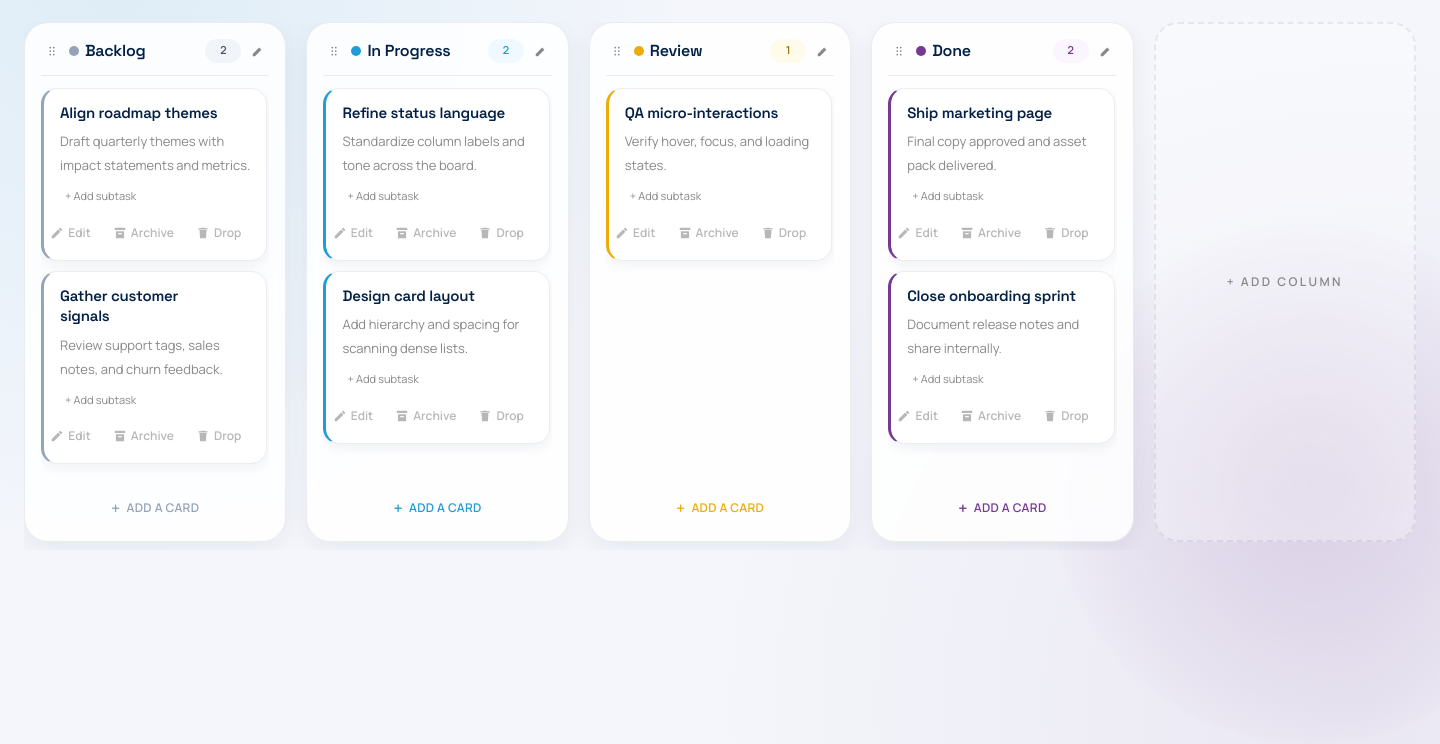
it: KanbanBoard › captures priority, labels, and assignee when adding a card
(page scrolled)
Click the 1st button "+ Add a card". click: (155, 508)
box: [41,490,269,524]
(page scrolled)
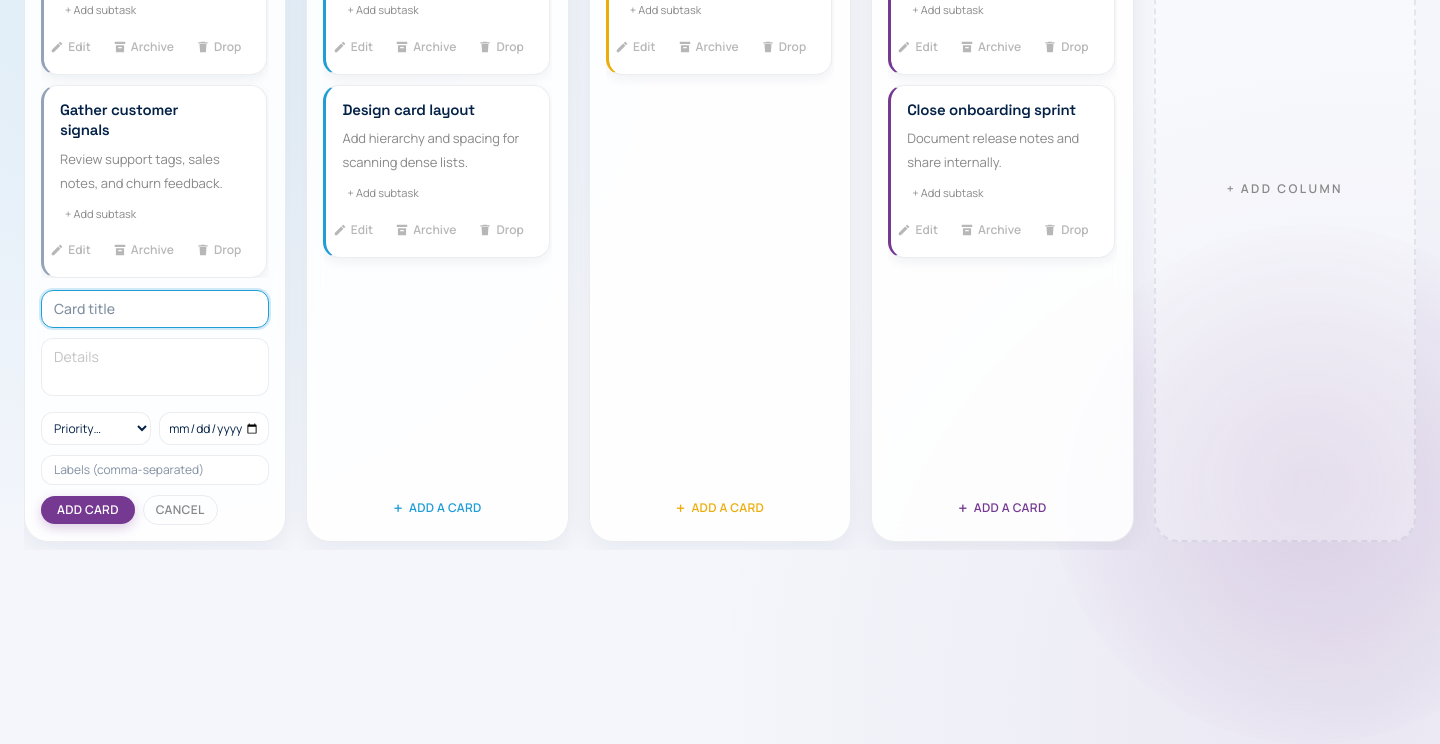
Type "Priority task" into the field with placeholder "Card title". click: (155, 309)
box: [41,290,269,328]
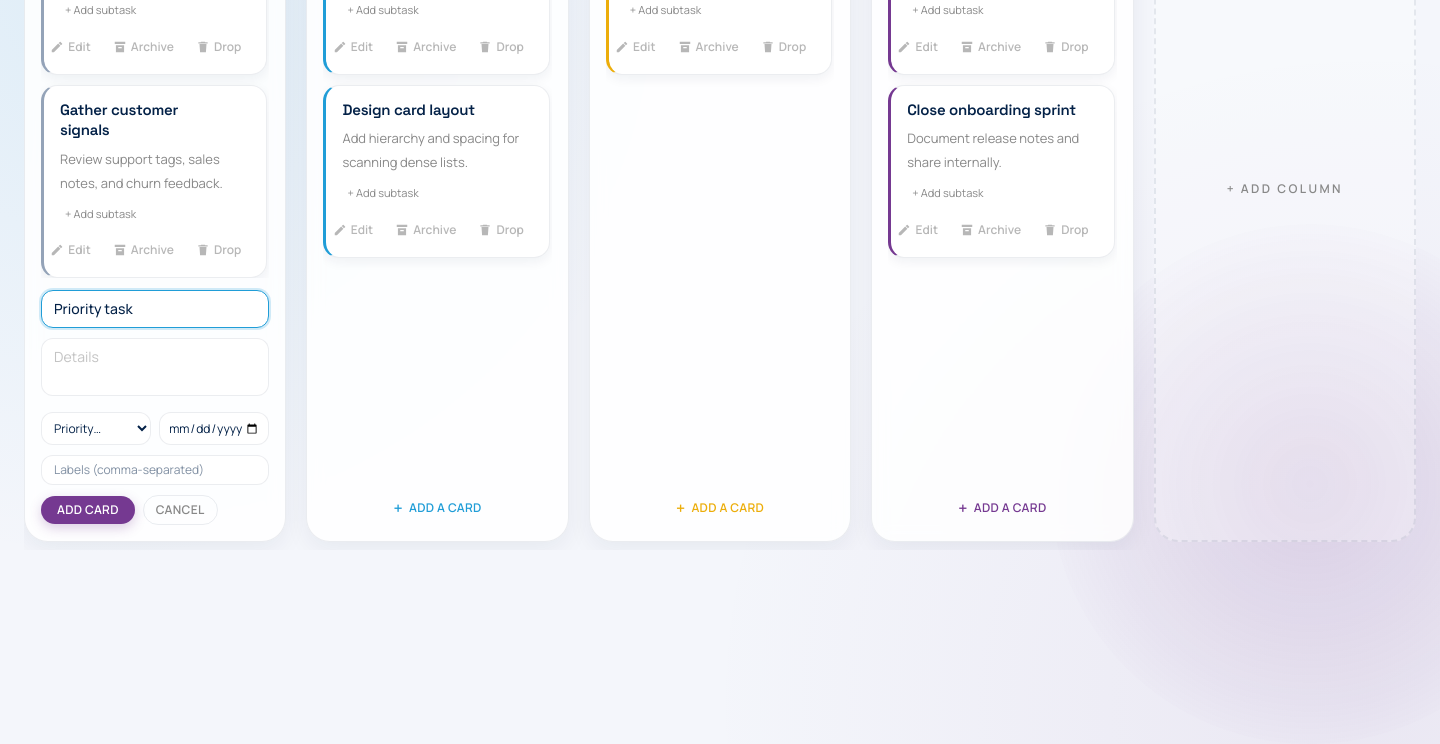
Select "High" in the dropdown named "Priority". click: (96, 429)
box: [41,412,151,445]
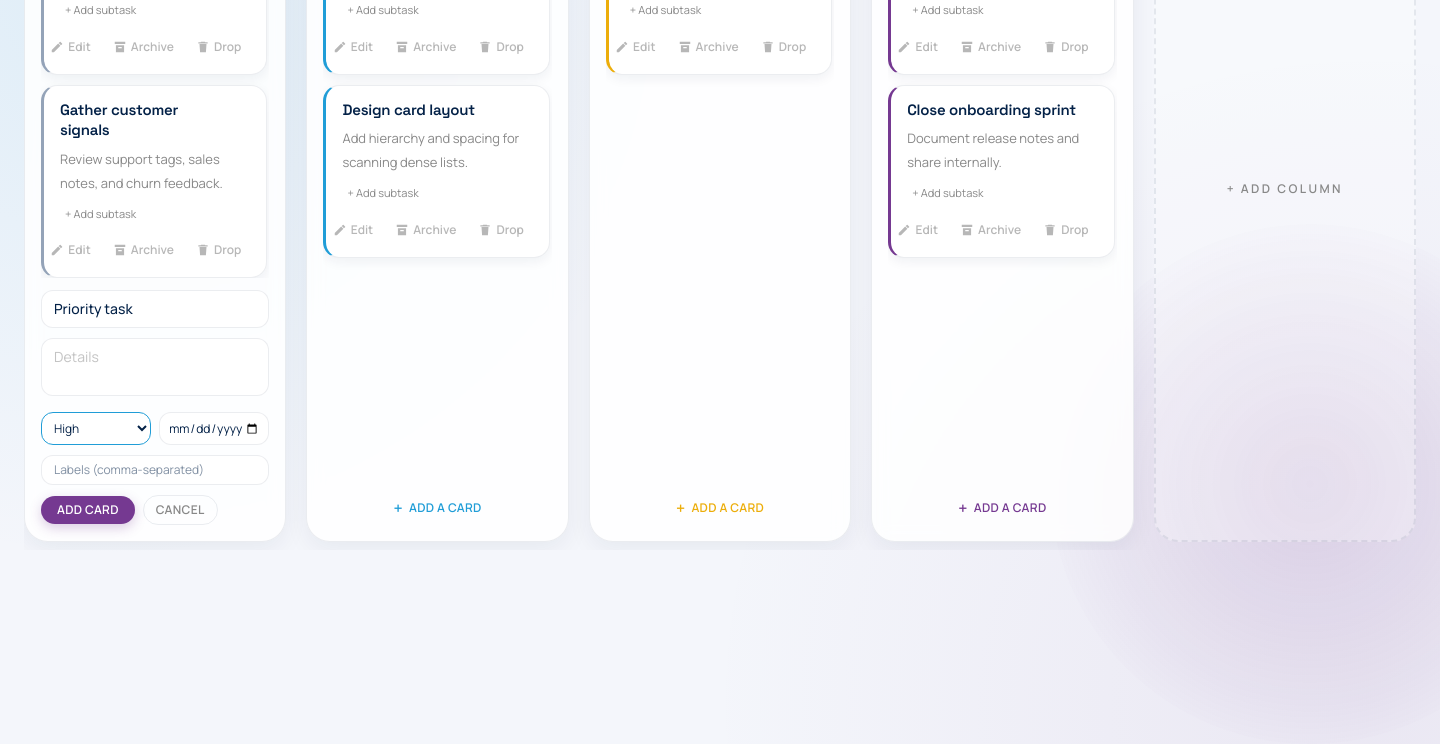
Type "design, ux" into the field with placeholder "Labels (comma-separated)". click: (155, 470)
box: [41,455,269,485]
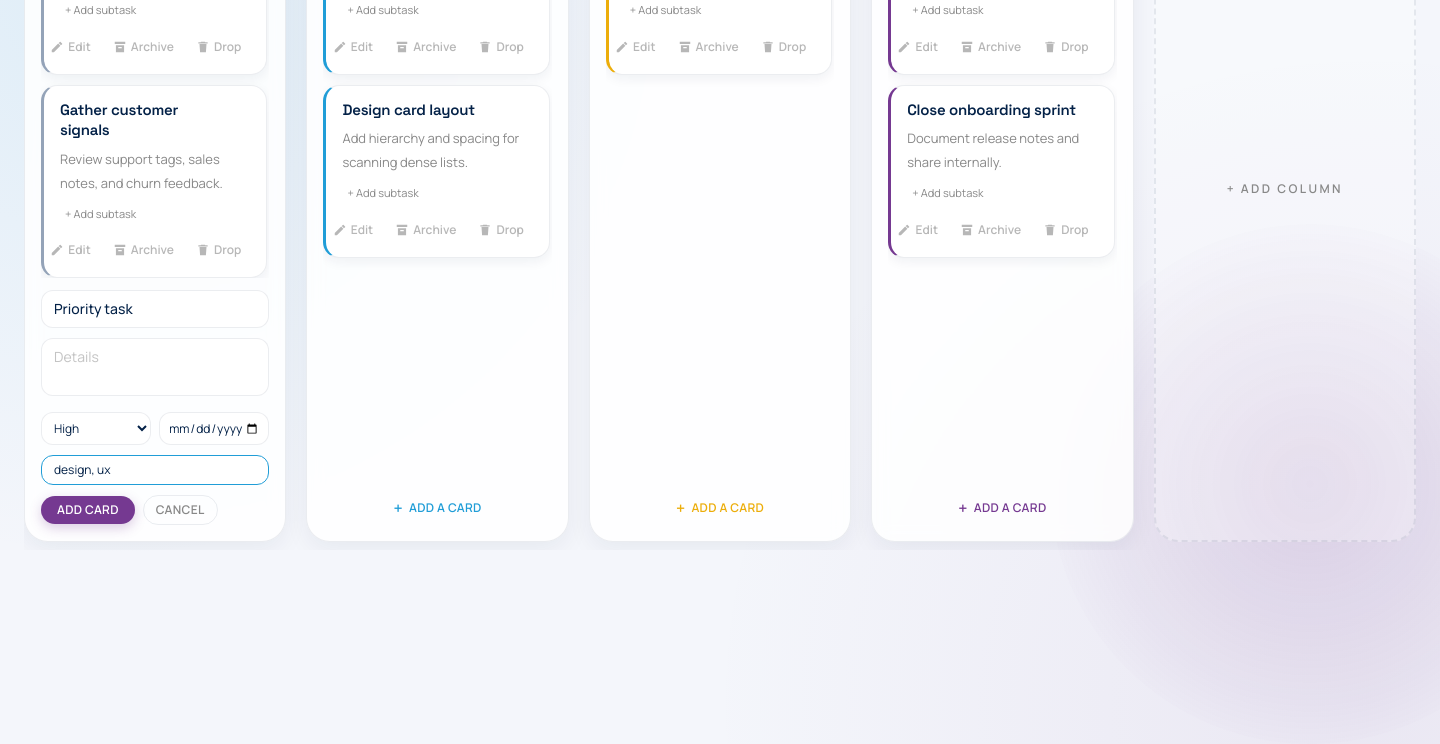
Click the button "Add card". click: (88, 510)
box: [41,496,135,524]
(page scrolled)
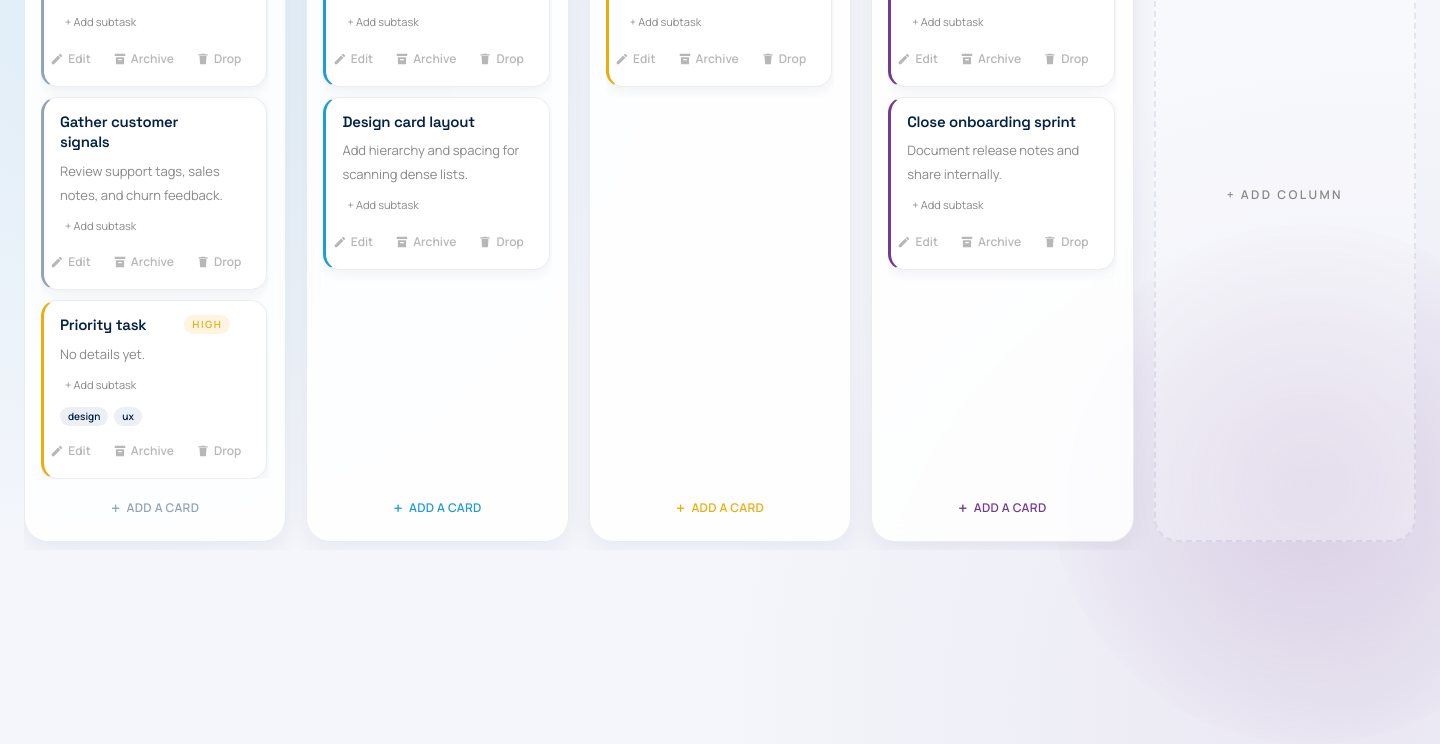
Check: the button "Priority task" is shown, box [60,315,146,336]
Check: the text "design" is shown, box [60,406,108,426]
Check: the text "ux" is shown, box [114,406,142,426]
